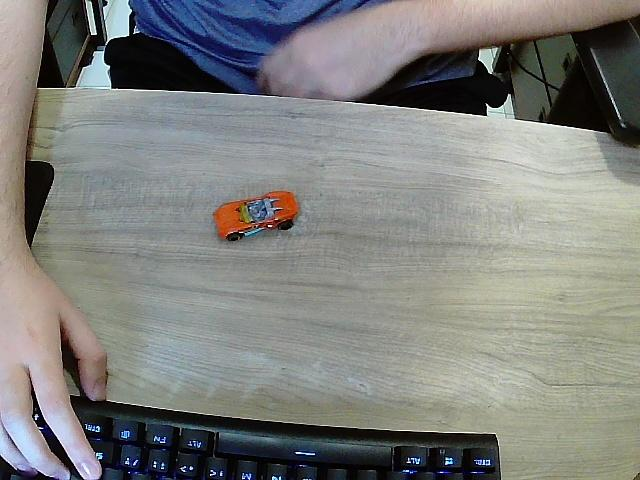Carro: (214, 191, 300, 243)
